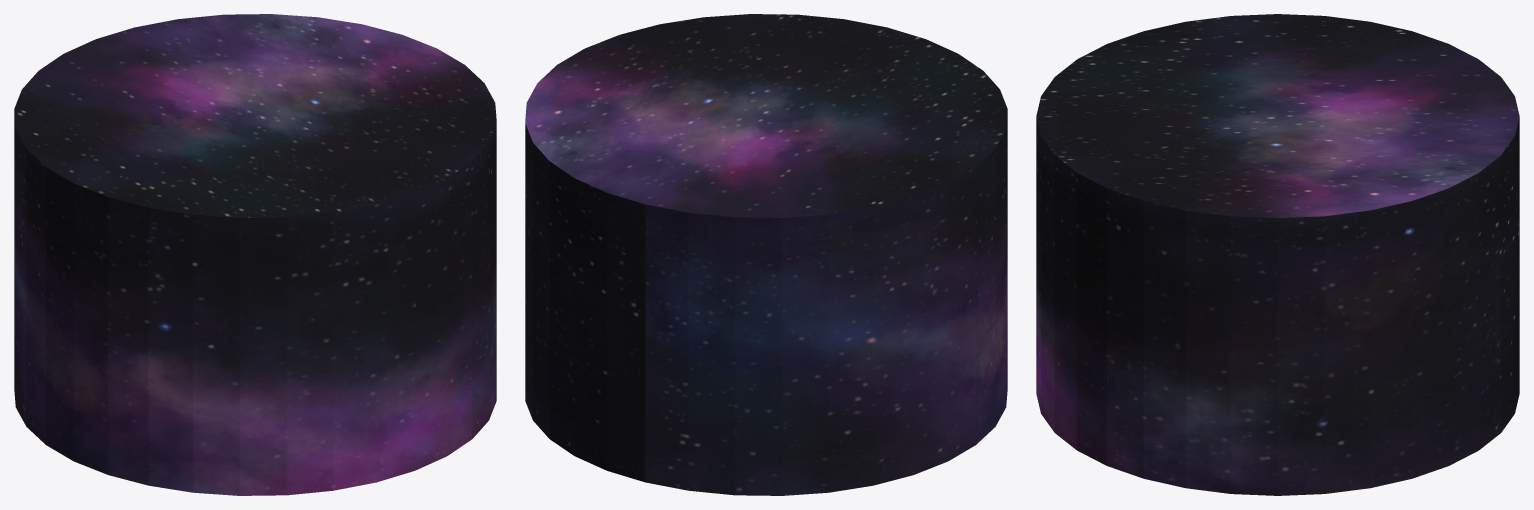
3 views of the same model, side by side, from view 1: azimuth 30°, elevation 25°; view 2: azimuth 150°, elevation 25°; view 3: azimuth 270°, elevation 25° (orthographic).
Parts seen in each view (by area): view 1: 円柱; view 2: 円柱; view 3: 円柱.
Part boxes in pixels (x1,y1,x2,y2): 円柱: (14, 14, 496, 495); 円柱: (525, 14, 1007, 495); 円柱: (1036, 14, 1519, 495).
Size of the model in its own units: 445 by 282 by 445.
